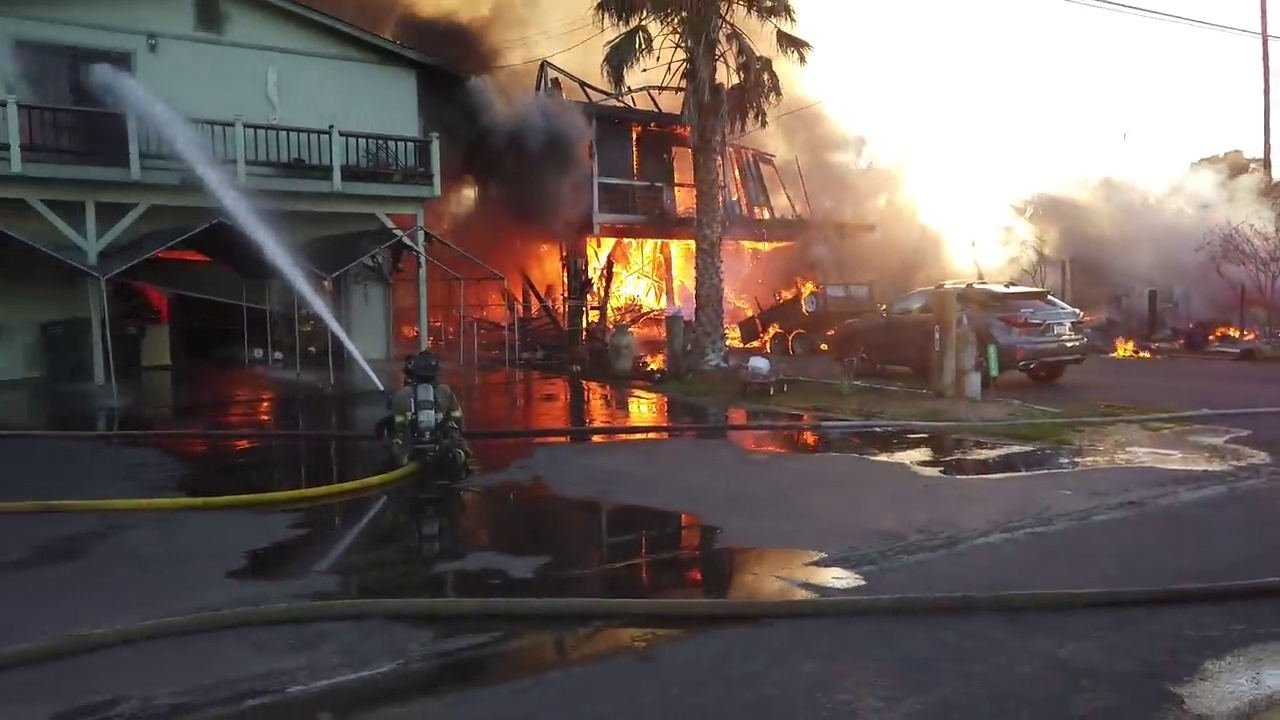fire: (425, 232, 569, 338), (721, 230, 822, 351), (587, 234, 691, 315), (722, 144, 811, 218), (629, 124, 696, 219), (122, 276, 183, 323), (145, 239, 210, 267), (639, 348, 673, 378), (1107, 337, 1154, 357), (1209, 323, 1256, 338)
smoke: (393, 1, 589, 236), (1031, 145, 1277, 317), (823, 161, 924, 289), (926, 186, 1032, 288), (194, 5, 241, 36)
